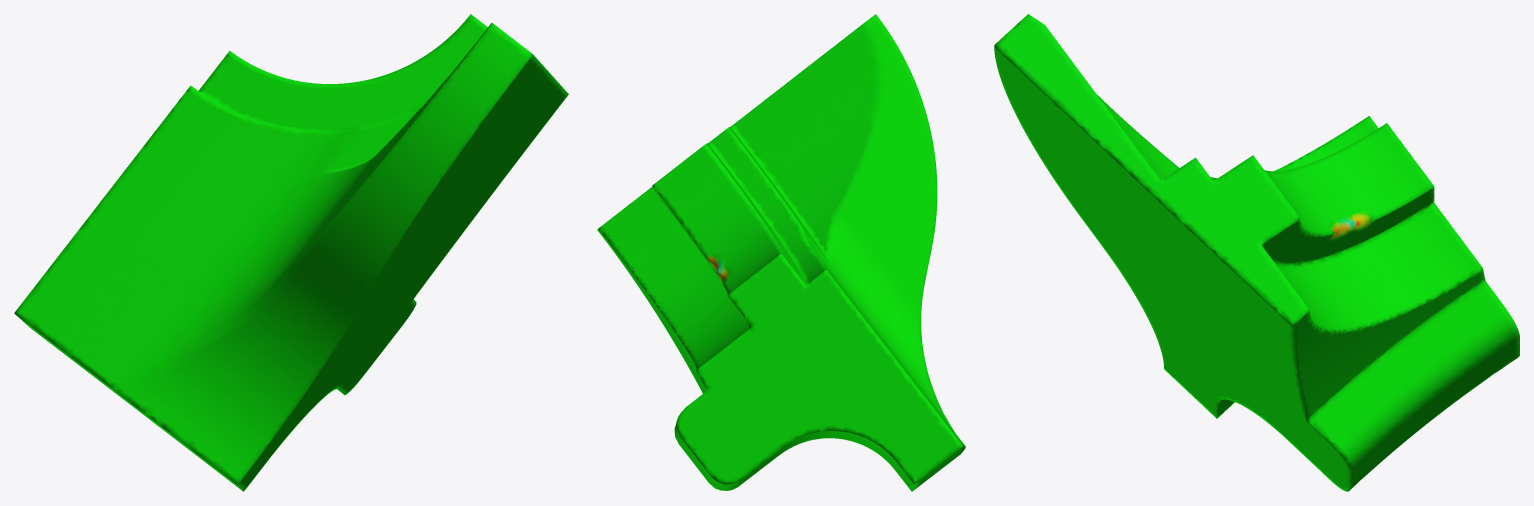
File: all=0.000038-hole=0.002831-initial.obj
3 renders of one model, left to right at view 1: azimuth 30°, elevation 25°; view 2: azimuth 150°, elevation 25°; view 3: azimuth 270°, elevation 25°, orthographic. The views are drawn at different scales.
Bounding box in the file's own units: 83.99 × 79.21 × 79.93.
